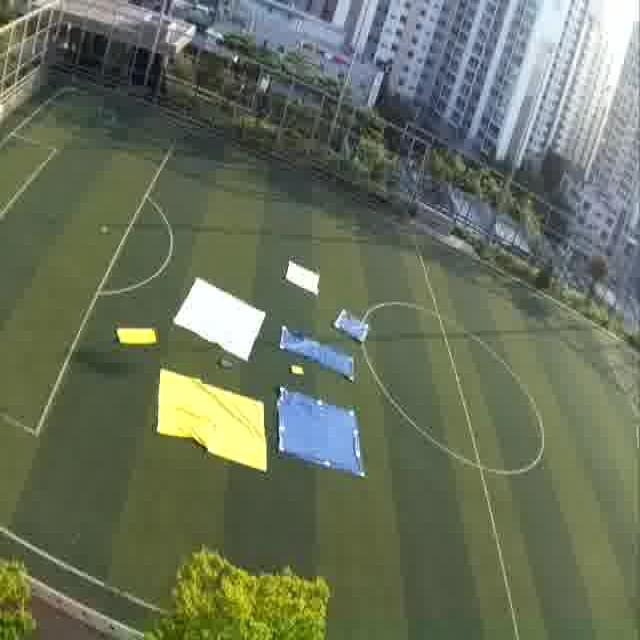danger: (276, 383, 370, 474), (280, 327, 336, 361), (333, 308, 373, 346)
safety: (174, 275, 272, 358), (279, 254, 329, 302)
warning: (157, 366, 271, 474), (111, 318, 163, 354)
